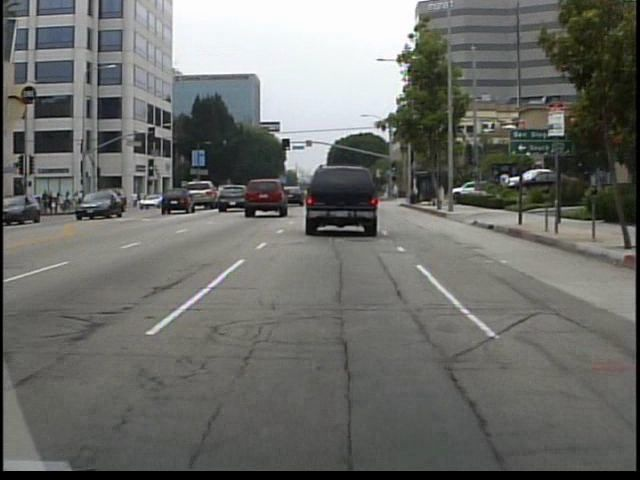person: (390, 182, 401, 203), (132, 189, 141, 209)
